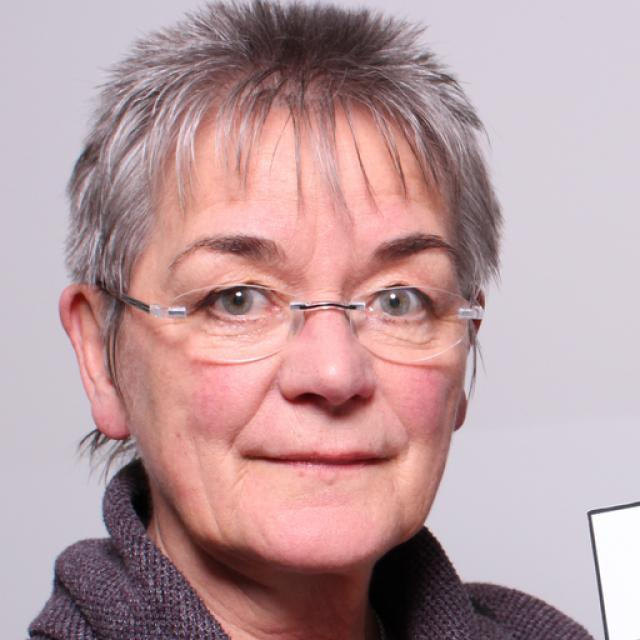happy: (119, 105, 472, 566)
